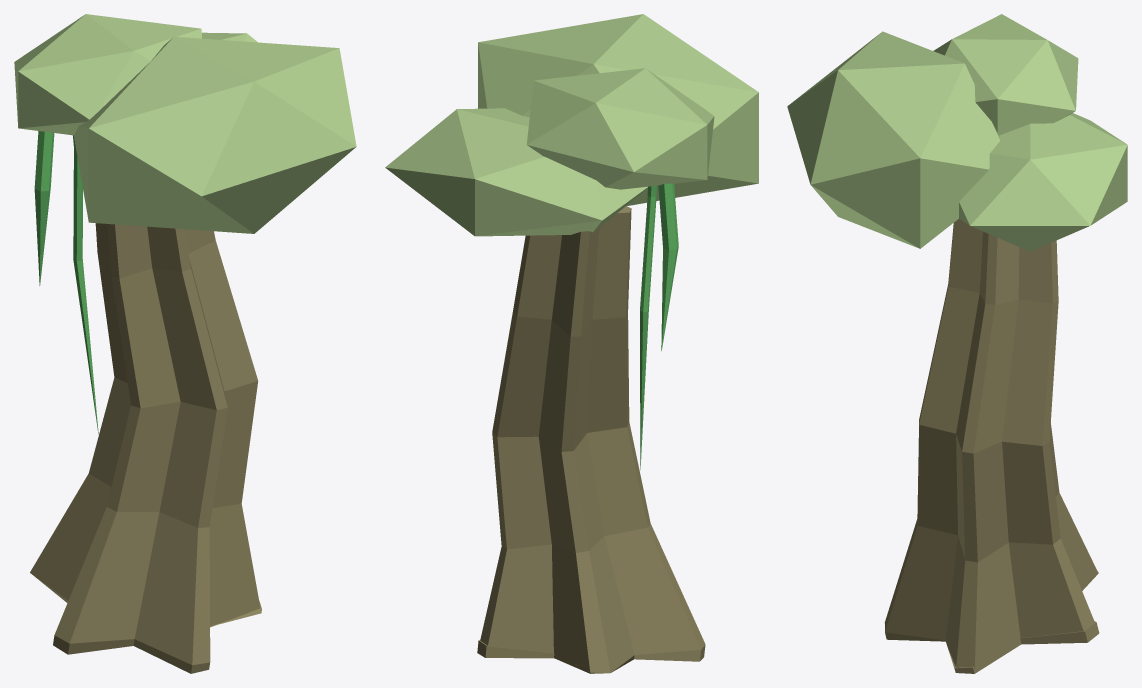
File: Arbre_moyen_3_V002.fbx
3 renders of one model, left to right at view 1: azimuth 30°, elevation 25°; view 2: azimuth 150°, elevation 25°; view 3: azimuth 270°, elevation 25°, orthographic. The views are drawn at different scales.
Parts seen in each view (by area): view 1: Sweep_3, Platonic_2, Platonic, Liane_3, Liane; view 2: Sweep_3, Platonic_2, Platonic_1, Platonic, Liane_3, Liane; view 3: Sweep_3, Platonic_2, Platonic_1, Platonic.
Part boxes in pixels (box(x1,y1,x2,y2)): Sweep_3: box(30, 223, 261, 673); Platonic_2: box(73, 36, 356, 233); Platonic: box(14, 14, 201, 135); Liane_3: box(73, 135, 98, 434); Liane: box(34, 131, 54, 285); Sweep_3: box(477, 209, 705, 673); Platonic_2: box(478, 14, 758, 205); Platonic_1: box(385, 108, 647, 236); Platonic: box(526, 68, 714, 189); Liane_3: box(640, 185, 656, 469); Liane: box(658, 183, 678, 350); Sweep_3: box(884, 219, 1099, 673); Platonic_2: box(787, 31, 1000, 248); Platonic_1: box(959, 113, 1127, 251); Platonic: box(933, 14, 1078, 135).
Bounding box in the file's own units: 217 × 438 × 233.
